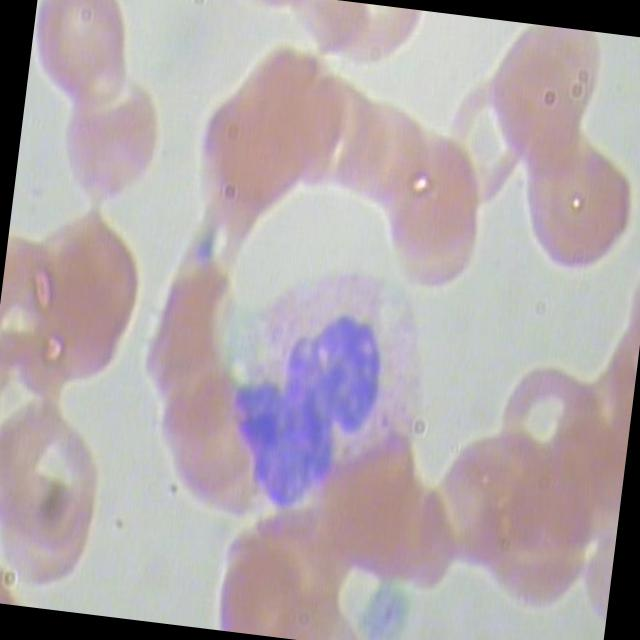RBC: (478, 354, 620, 512), (417, 428, 558, 586), (462, 479, 603, 637), (486, 23, 614, 178), (424, 72, 552, 227), (515, 129, 640, 281), (52, 73, 174, 221), (0, 399, 113, 557), (368, 114, 475, 270), (348, 94, 456, 248), (316, 76, 423, 231), (386, 152, 492, 307), (0, 458, 111, 606), (24, 0, 146, 122), (210, 536, 342, 640), (332, 2, 426, 82), (291, 0, 381, 67)
WBC: (230, 254, 454, 533)
